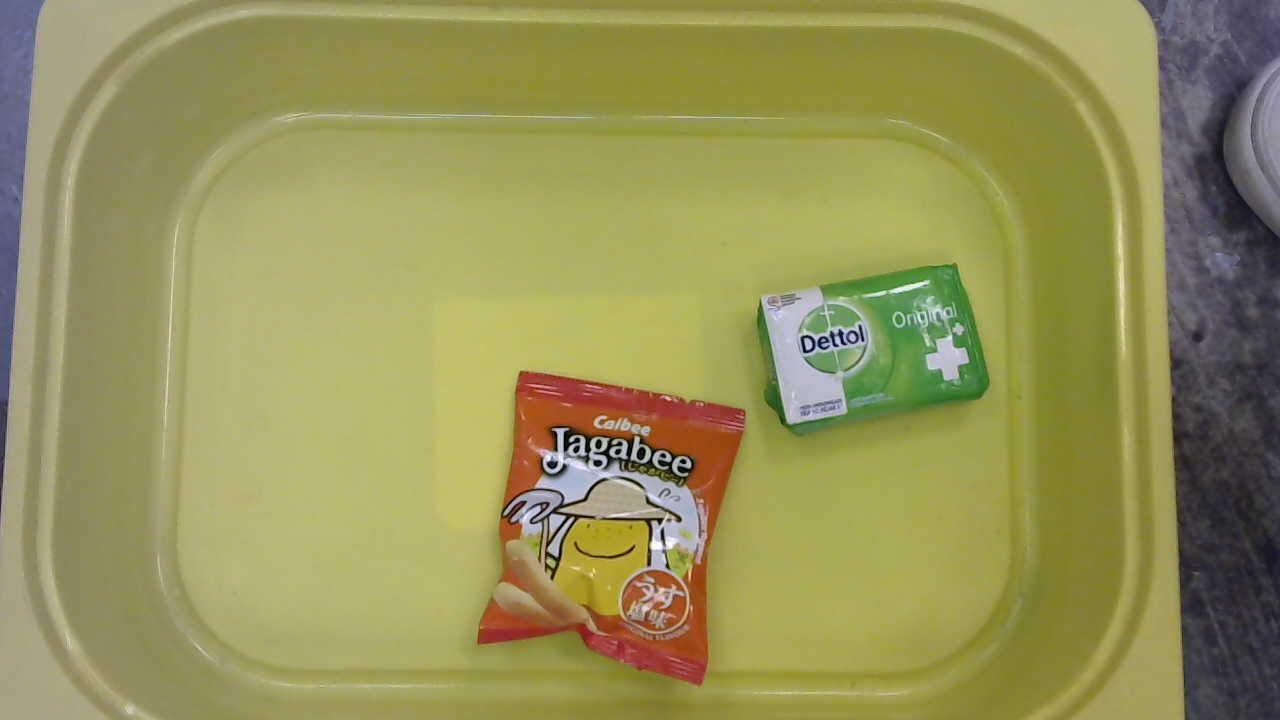Dettol: (745, 263, 1001, 438)
JagabeeFarmer: (478, 368, 742, 691)
